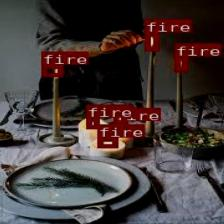fire: (144, 32, 158, 50), (41, 64, 62, 76), (173, 56, 186, 71), (97, 137, 116, 147), (86, 117, 98, 128), (113, 121, 126, 131)
